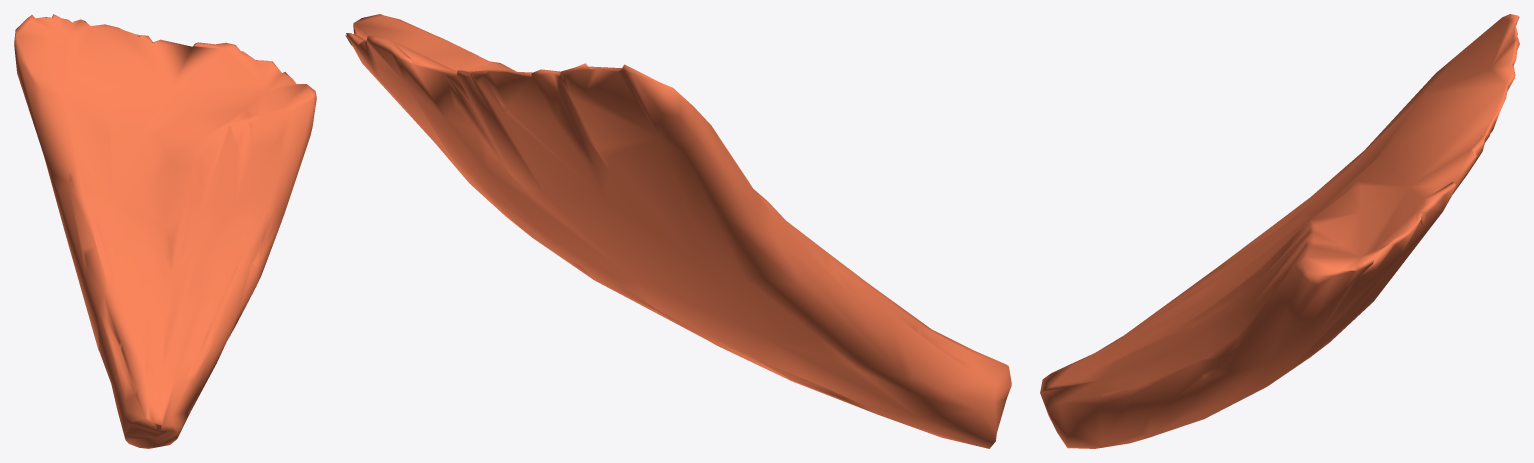
The model's file is Rectus_capitis_posterior_minor_left.glb.
3 renders of one model, left to right at view 1: azimuth 30°, elevation 25°; view 2: azimuth 150°, elevation 25°; view 3: azimuth 270°, elevation 25°, orthographic. The views are drawn at different scales.
Parts seen in each view (by area): view 1: Rectus_posterior_minor_capitis_muscle.l_Generated_Mesh_From_; view 2: Rectus_posterior_minor_capitis_muscle.l_Generated_Mesh_From_; view 3: Rectus_posterior_minor_capitis_muscle.l_Generated_Mesh_From_.
Part boxes in pixels (bbox=[...]): Rectus_posterior_minor_capitis_muscle.l_Generated_Mesh_From_: bbox=[14, 14, 316, 448]; Rectus_posterior_minor_capitis_muscle.l_Generated_Mesh_From_: bbox=[345, 14, 1011, 448]; Rectus_posterior_minor_capitis_muscle.l_Generated_Mesh_From_: bbox=[1040, 14, 1519, 448].
Size of the model in its own units: 0.0236 by 0.0261 by 0.0253.
